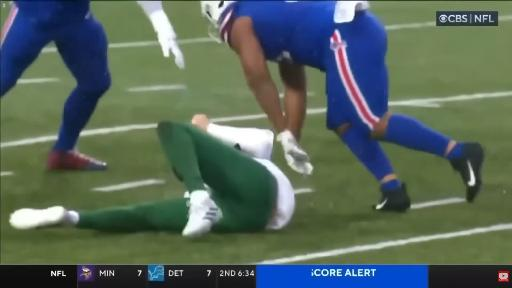Helmet: (201, 1, 235, 42)
Jersey: (225, 2, 388, 133), (232, 2, 335, 71), (254, 158, 295, 229), (14, 0, 90, 29)
Player: (201, 1, 484, 211), (10, 115, 295, 237), (0, 0, 110, 170)
